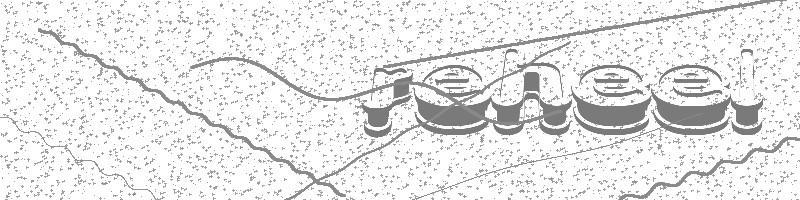e: (571, 63, 652, 136), (413, 63, 493, 136), (651, 63, 731, 136)
h: (492, 48, 573, 137)
l: (730, 48, 765, 137)
r: (363, 67, 414, 138)
